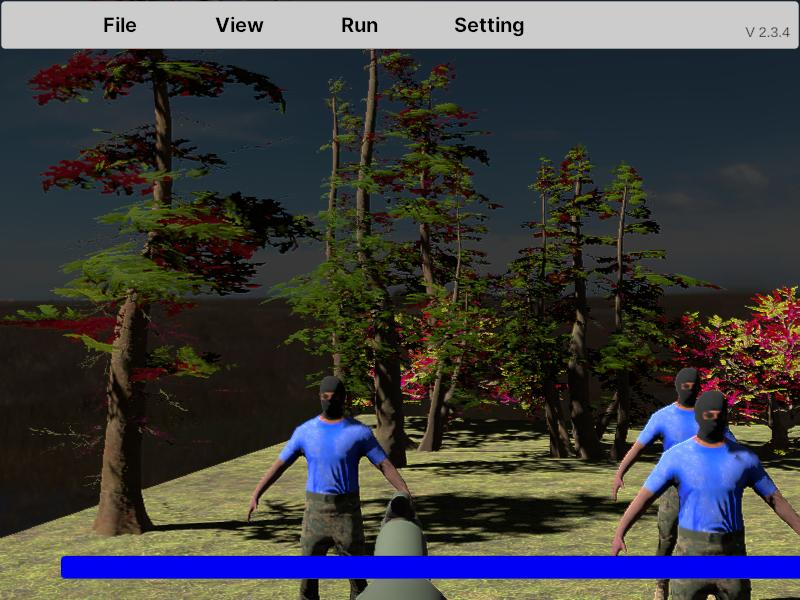Human: (608, 388, 800, 600), (246, 373, 417, 598), (609, 368, 753, 591)
